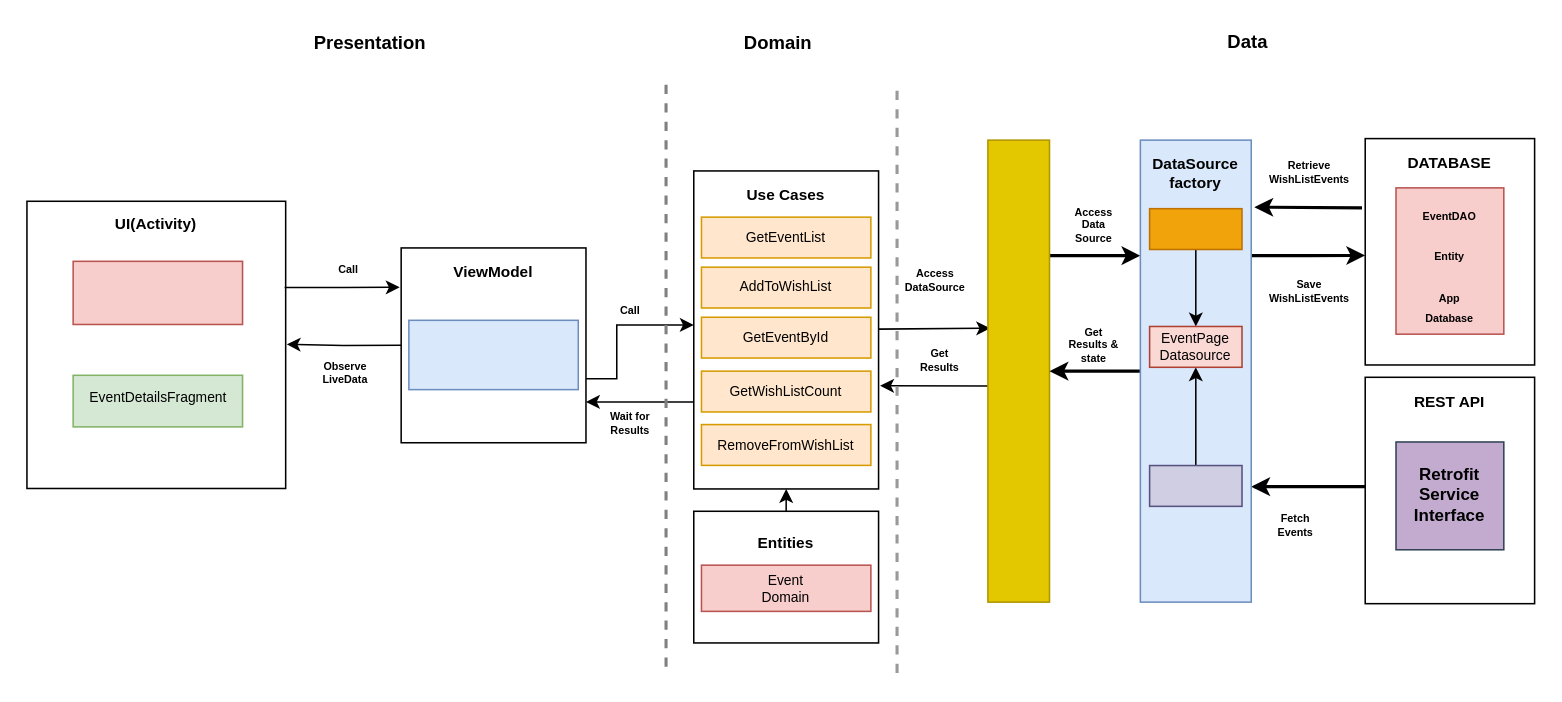
Some shapes in this 1562 by 702 pixel diagram are drawn without their labels. Here are the shapes that lost their labels. From the top down, the centre of each, then its label:
the point at 1195,228: Cache Datasource
the point at 157,292: Event ListFragment
the point at 492,354: EventViewModel
the point at 1018,370: Event RepositoryImpl
the point at 1195,485: Remote Datasource
